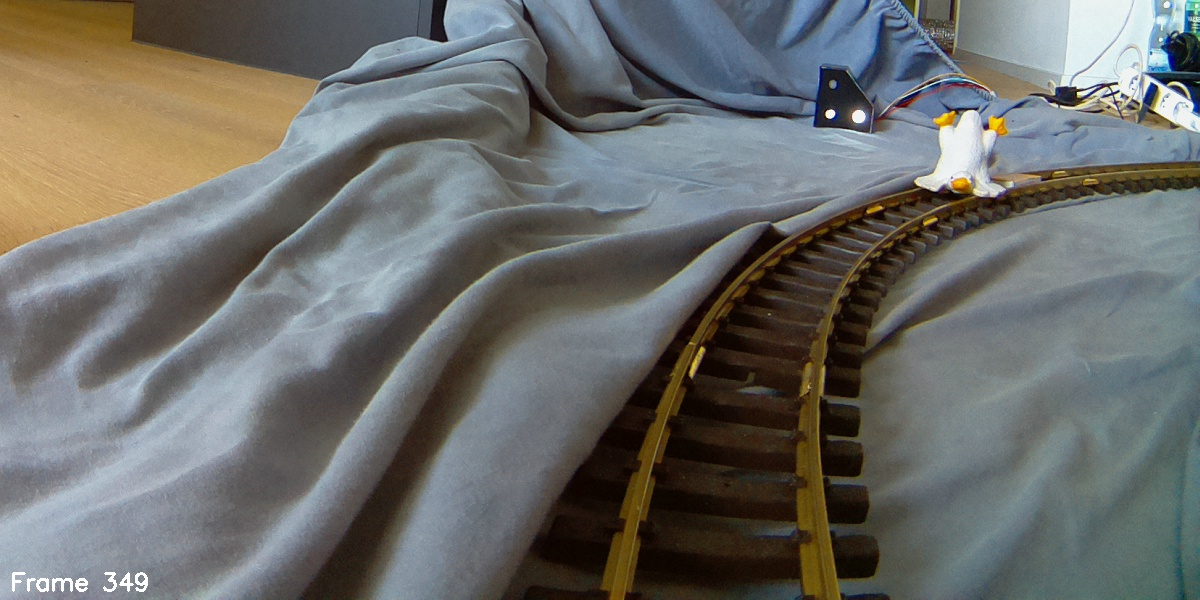Ente: (914, 110, 1009, 206)
Halt: (814, 61, 872, 129)
